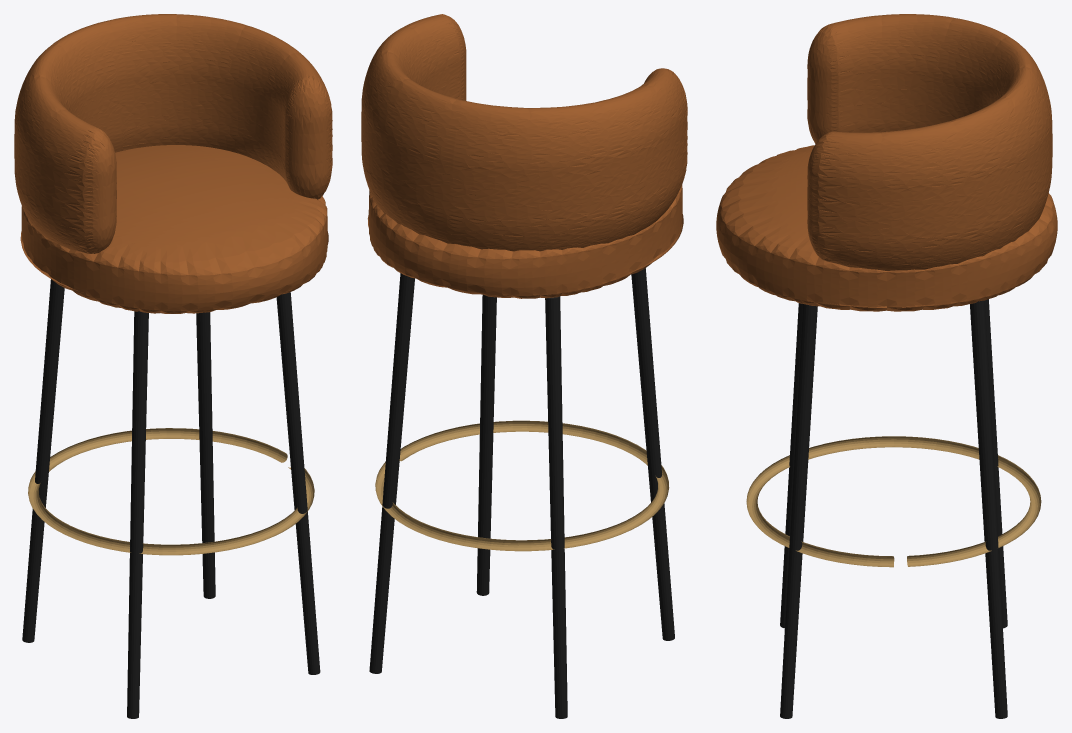
Rendered from decant.glb.
3 renders of one model, left to right at view 1: azimuth 30°, elevation 25°; view 2: azimuth 150°, elevation 25°; view 3: azimuth 270°, elevation 25°, orthographic. The views are drawn at different scales.
Parts seen in each view (by area): view 1: back, seat, footring, leg1, leg0, leg2, leg3; view 2: back, seat, footring, leg2, leg3, leg1, leg0; view 3: back, seat, footring, leg3, leg0, leg2, leg1.
Part boxes in pixels (x1=…): back: x1=14, y1=14, x2=332, y2=253; seat: x1=21, y1=145, x2=327, y2=313; footring: x1=28, y1=428, x2=314, y2=555; leg1: x1=127, y1=311, x2=148, y2=718; leg0: x1=276, y1=292, x2=320, y2=674; leg2: x1=22, y1=279, x2=64, y2=642; leg3: x1=196, y1=312, x2=215, y2=598; back: x1=361, y1=14, x2=687, y2=251; seat: x1=368, y1=184, x2=682, y2=298; footring: x1=375, y1=420, x2=669, y2=551; leg2: x1=545, y1=296, x2=567, y2=718; leg3: x1=369, y1=273, x2=414, y2=673; leg1: x1=631, y1=268, x2=674, y2=640; leg0: x1=476, y1=294, x2=496, y2=595; back: x1=807, y1=14, x2=1052, y2=270; seat: x1=716, y1=145, x2=1057, y2=311; footring: x1=746, y1=436, x2=1041, y2=567; leg3: x1=970, y1=300, x2=1007, y2=718; leg0: x1=780, y1=304, x2=817, y2=718; leg2: x1=985, y1=299, x2=1007, y2=628; leg1: x1=780, y1=303, x2=802, y2=628.
Size of the model in its own units: 0.4741 by 0.9648 by 0.4929.
